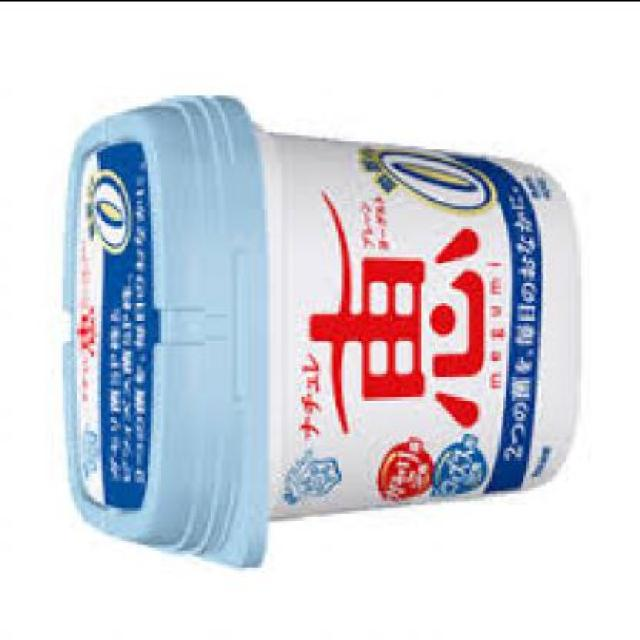PLASTIC: (59, 96, 572, 572), (60, 97, 262, 569)
